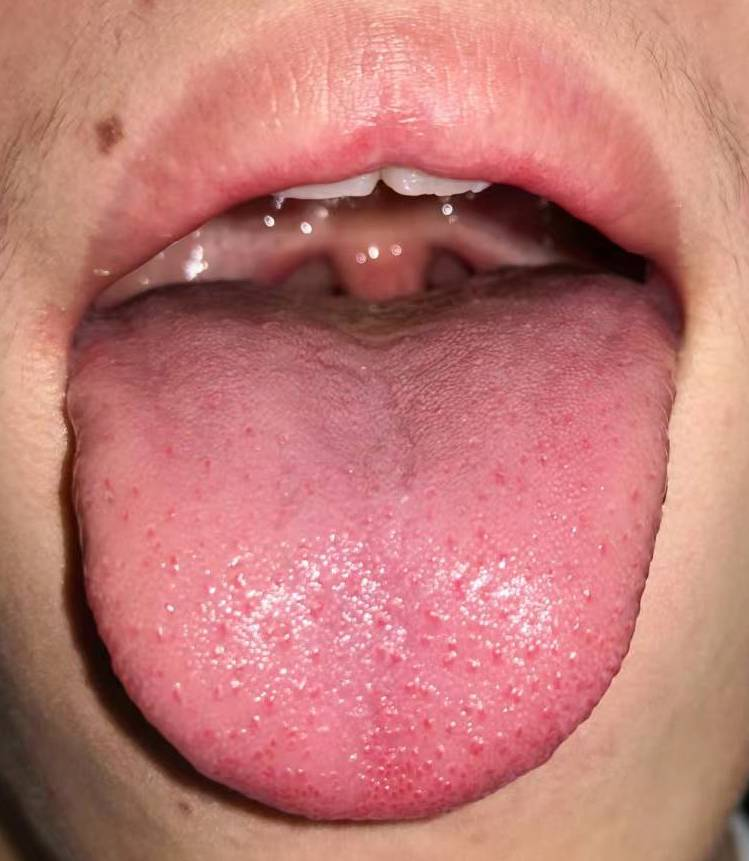hongdianshe: (464, 733, 484, 756), (494, 547, 512, 568), (370, 612, 389, 631), (166, 549, 183, 567), (420, 713, 435, 731)
hongshe: (66, 261, 678, 821)
